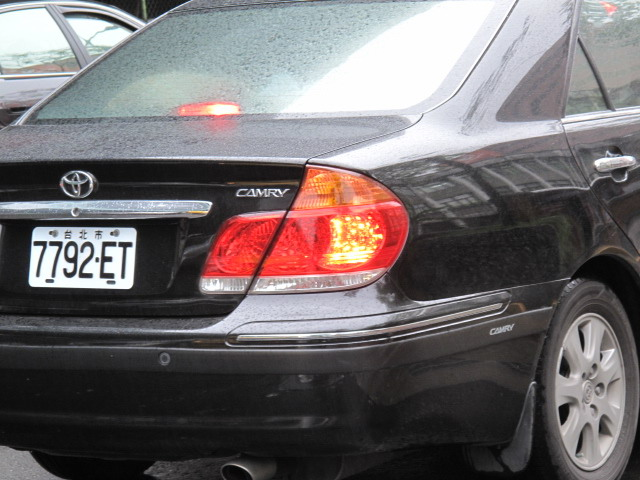plate: (27, 223, 140, 294)
